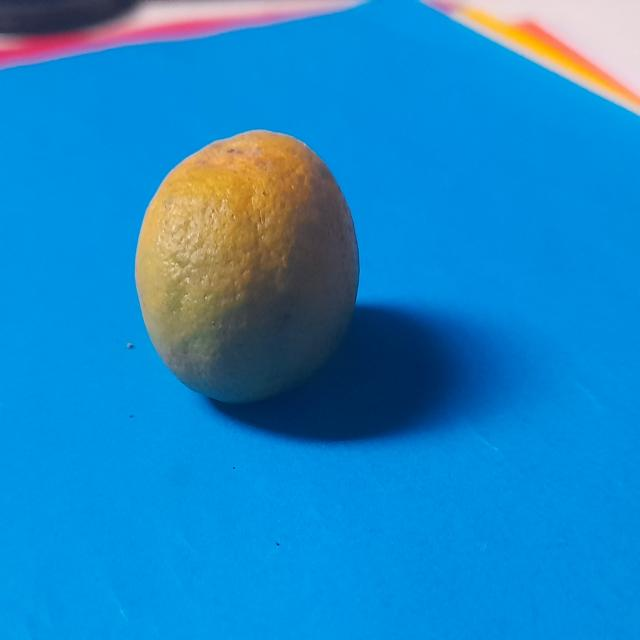greening: (130, 111, 368, 424)
